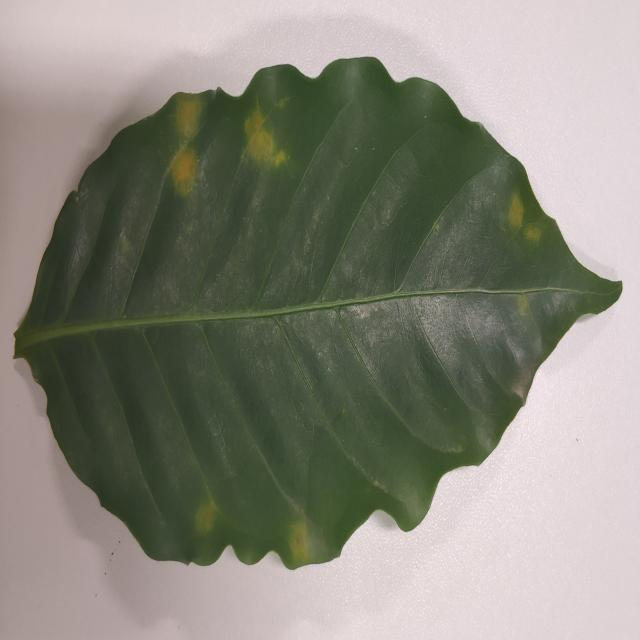Enfermedad-Roya: (12, 57, 625, 572)
